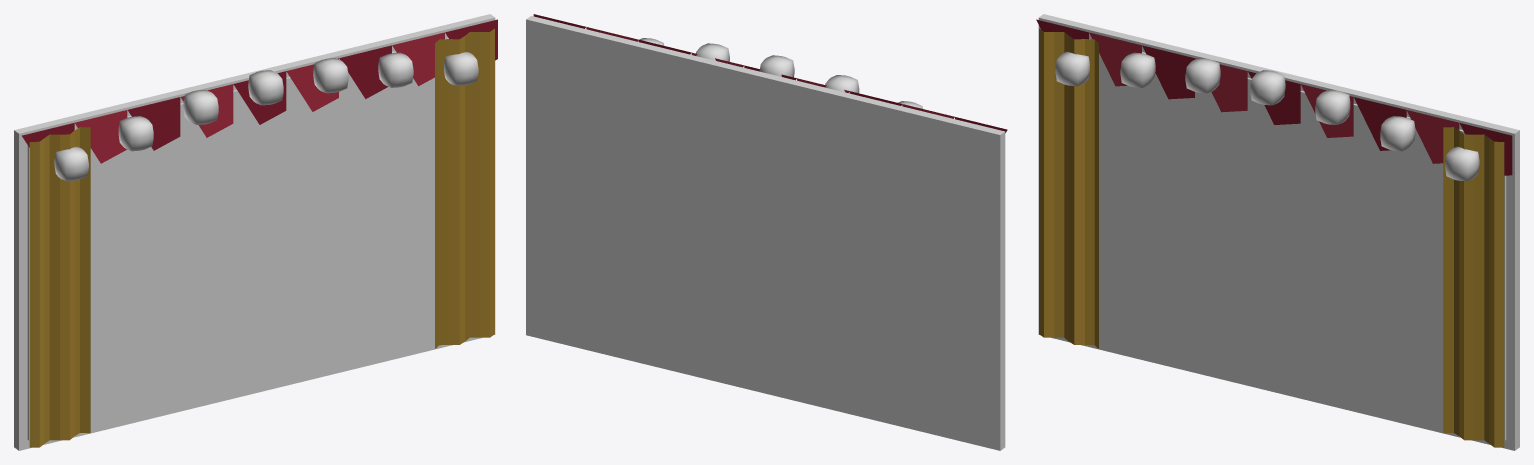
The model's file is backdrop.glb.
The picture shows the model from 3 angles, left to right: view 1: azimuth 30°, elevation 25°; view 2: azimuth 150°, elevation 25°; view 3: azimuth 330°, elevation 25°; orthographic projection.
Parts seen in each view (by area): view 1: backdrop, sign_backdrop; view 2: backdrop; view 3: backdrop, sign_backdrop.
Boxes of the visible parts, x1,y1,x2,y2 form: backdrop: (14,14,497,450); sign_backdrop: (90,84,434,292); backdrop: (526,14,1007,450); backdrop: (1036,14,1519,450); sign_backdrop: (1099,84,1443,292).
Bounding box in the file's own units: 5.06 × 3.3 × 0.391.
